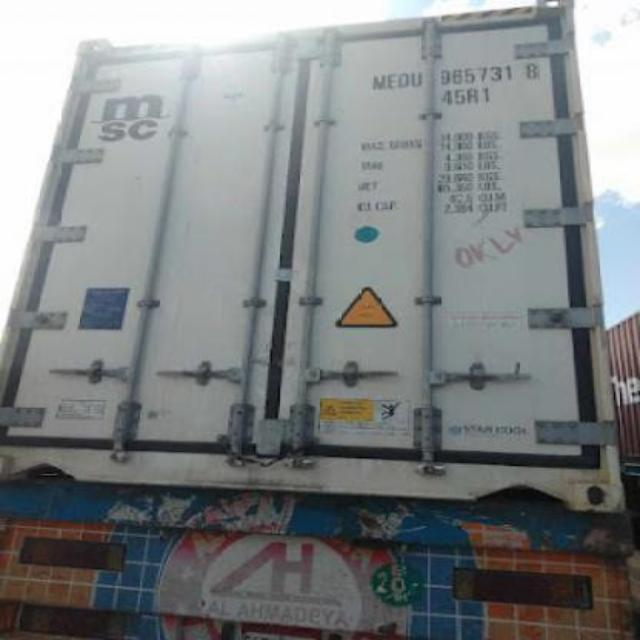1: (500, 58, 516, 86)
3: (488, 61, 500, 87)
5: (462, 61, 474, 87)
6: (451, 64, 464, 86)
7: (474, 62, 488, 84)
8: (522, 54, 538, 82)
9: (438, 64, 450, 88)
D: (398, 69, 408, 95)
E: (386, 70, 398, 92)
M: (366, 68, 386, 92)
U: (408, 61, 422, 91)
